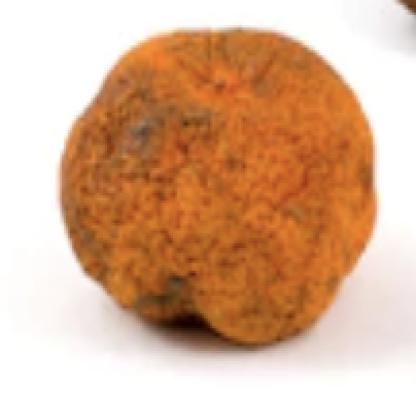rotten: (62, 26, 377, 348)
